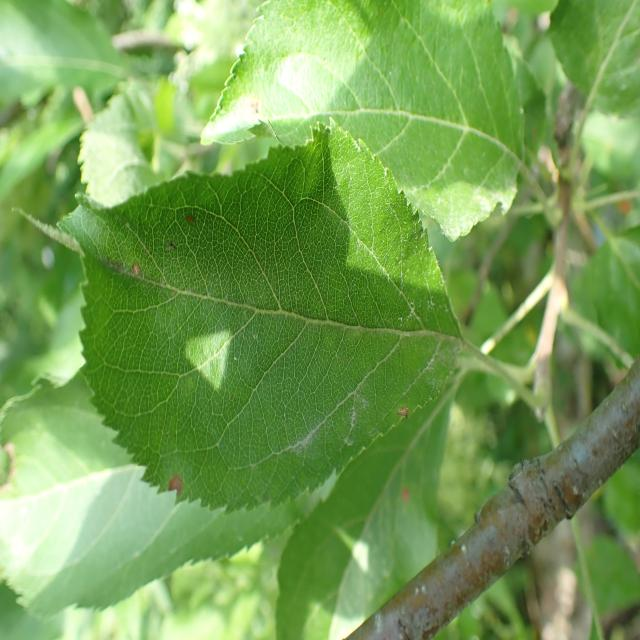frog-eye-leaf-spot: (54, 122, 464, 516), (199, 1, 526, 247)
